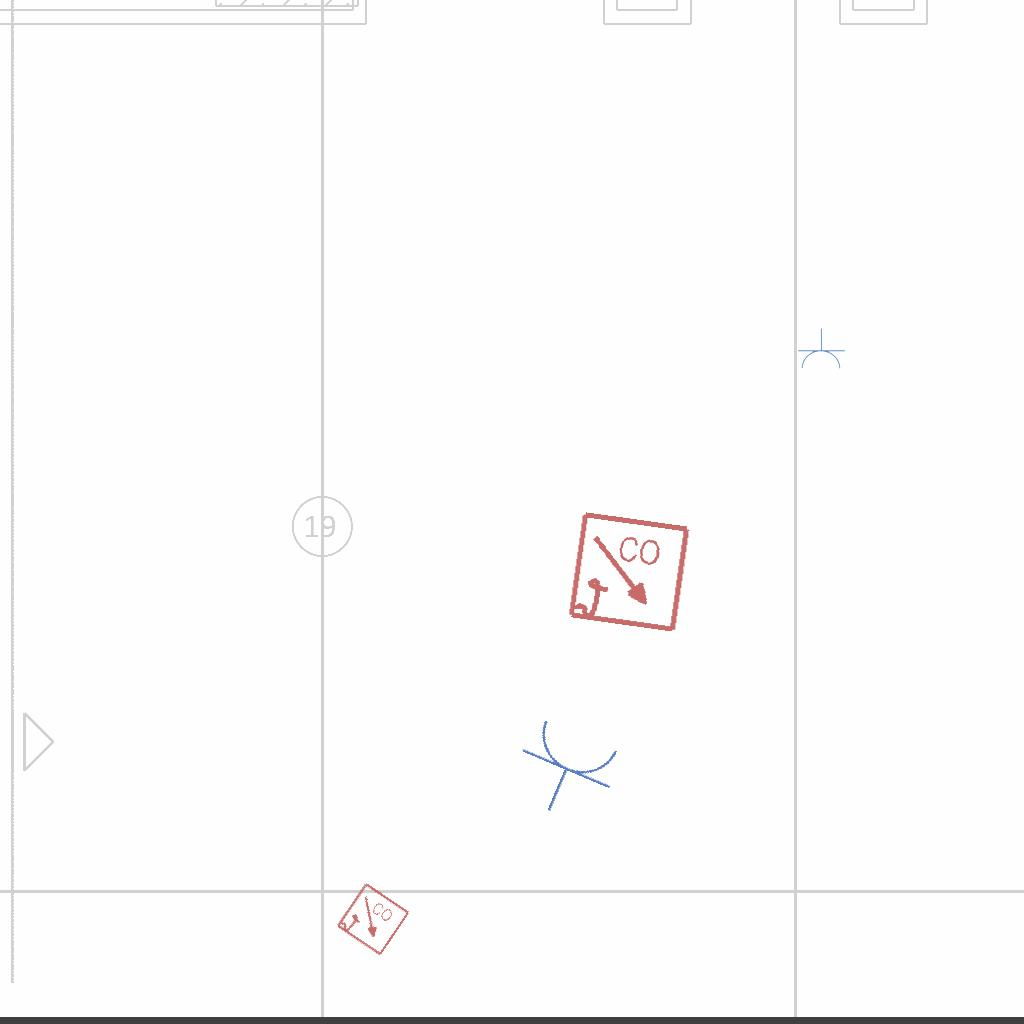ROA_Rauchmelder_optisch_mit_Signalgeber_(Sockelsirene): (565, 509, 694, 638), (334, 881, 412, 959)
Schukosteckdose_einfach: (502, 711, 630, 832), (796, 328, 846, 371)
